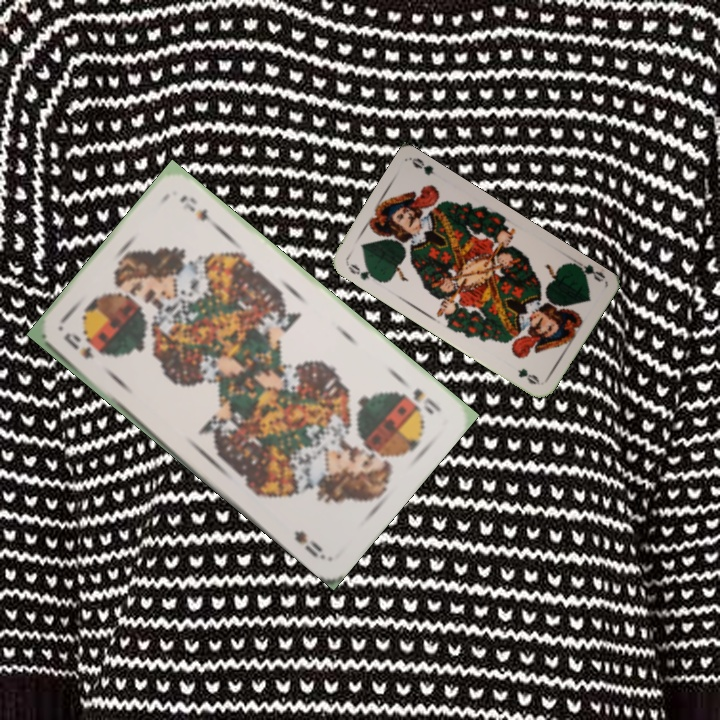GO: (568, 255, 607, 285), (344, 260, 381, 284)
SO: (59, 328, 97, 362), (408, 384, 444, 418)
